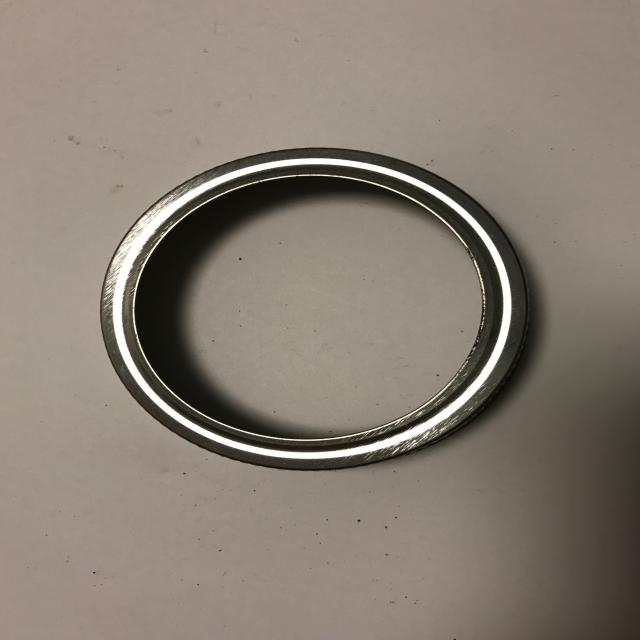metal: (99, 146, 531, 470)
